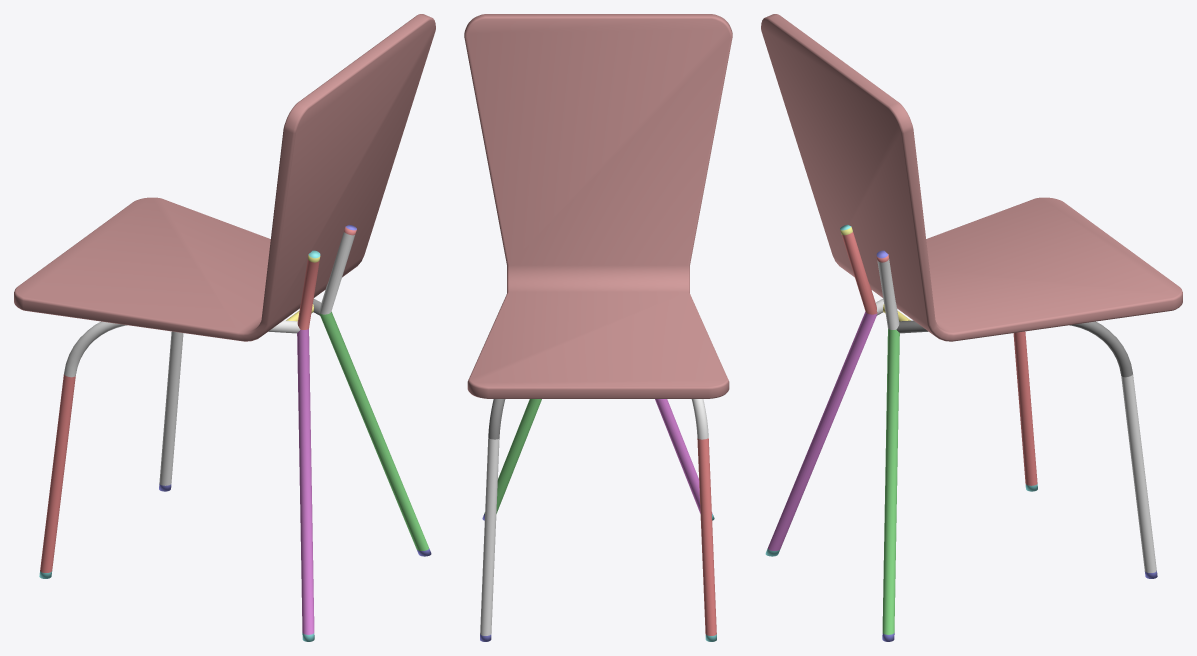
Rendered from chairRes.fbx.
The picture shows the model from 3 angles, left to right: view 1: azimuth 30°, elevation 25°; view 2: azimuth 150°, elevation 25°; view 3: azimuth 270°, elevation 25°; orthographic projection. The views are drawn at different scales.
Parts seen in each view (by area): view 1: chairRes; view 2: chairRes; view 3: chairRes.
Boxes of the visible parts, left/top/right/bottom form: chairRes: left=14, top=14, right=435, bottom=641; chairRes: left=464, top=14, right=732, bottom=641; chairRes: left=761, top=14, right=1182, bottom=641.
Size of the model in its own units: 98.89 by 146 by 104.
